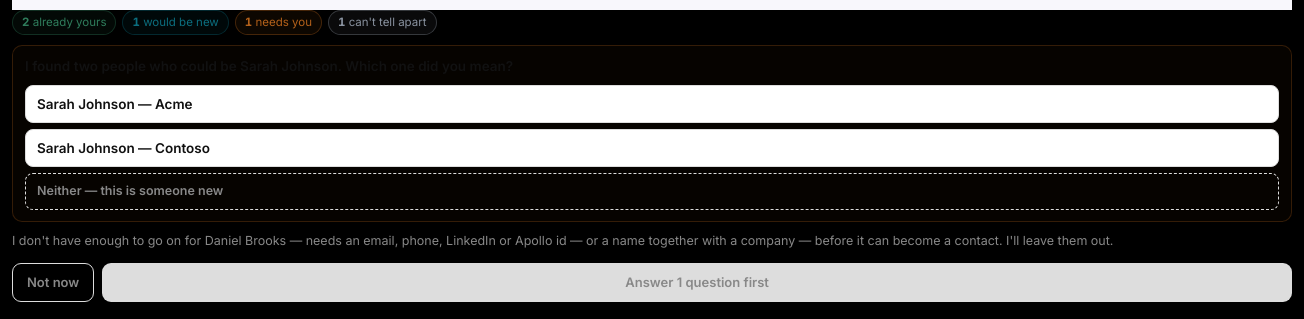
Test: resolution_preview turn › "Neither" is treated as a new person, not an error
The width and height of the screenshot is (1304, 319).
What coordinates should you click on to do the following:
click the button "Neither — this is someone new"
I would click on:
 (130, 191)
Its box is [25,173,1279,210].
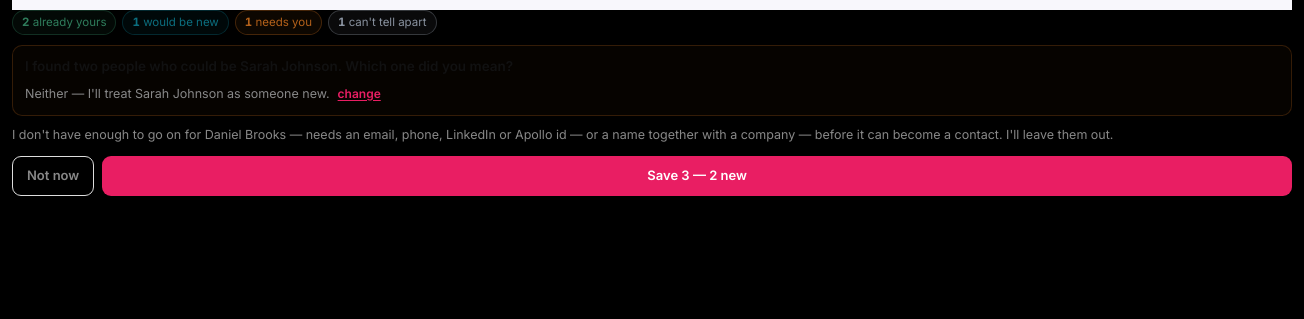
Check: the text "Neither — I'll treat Sarah Johnson as someone new. change" is shown, box [25,85,381,103]
